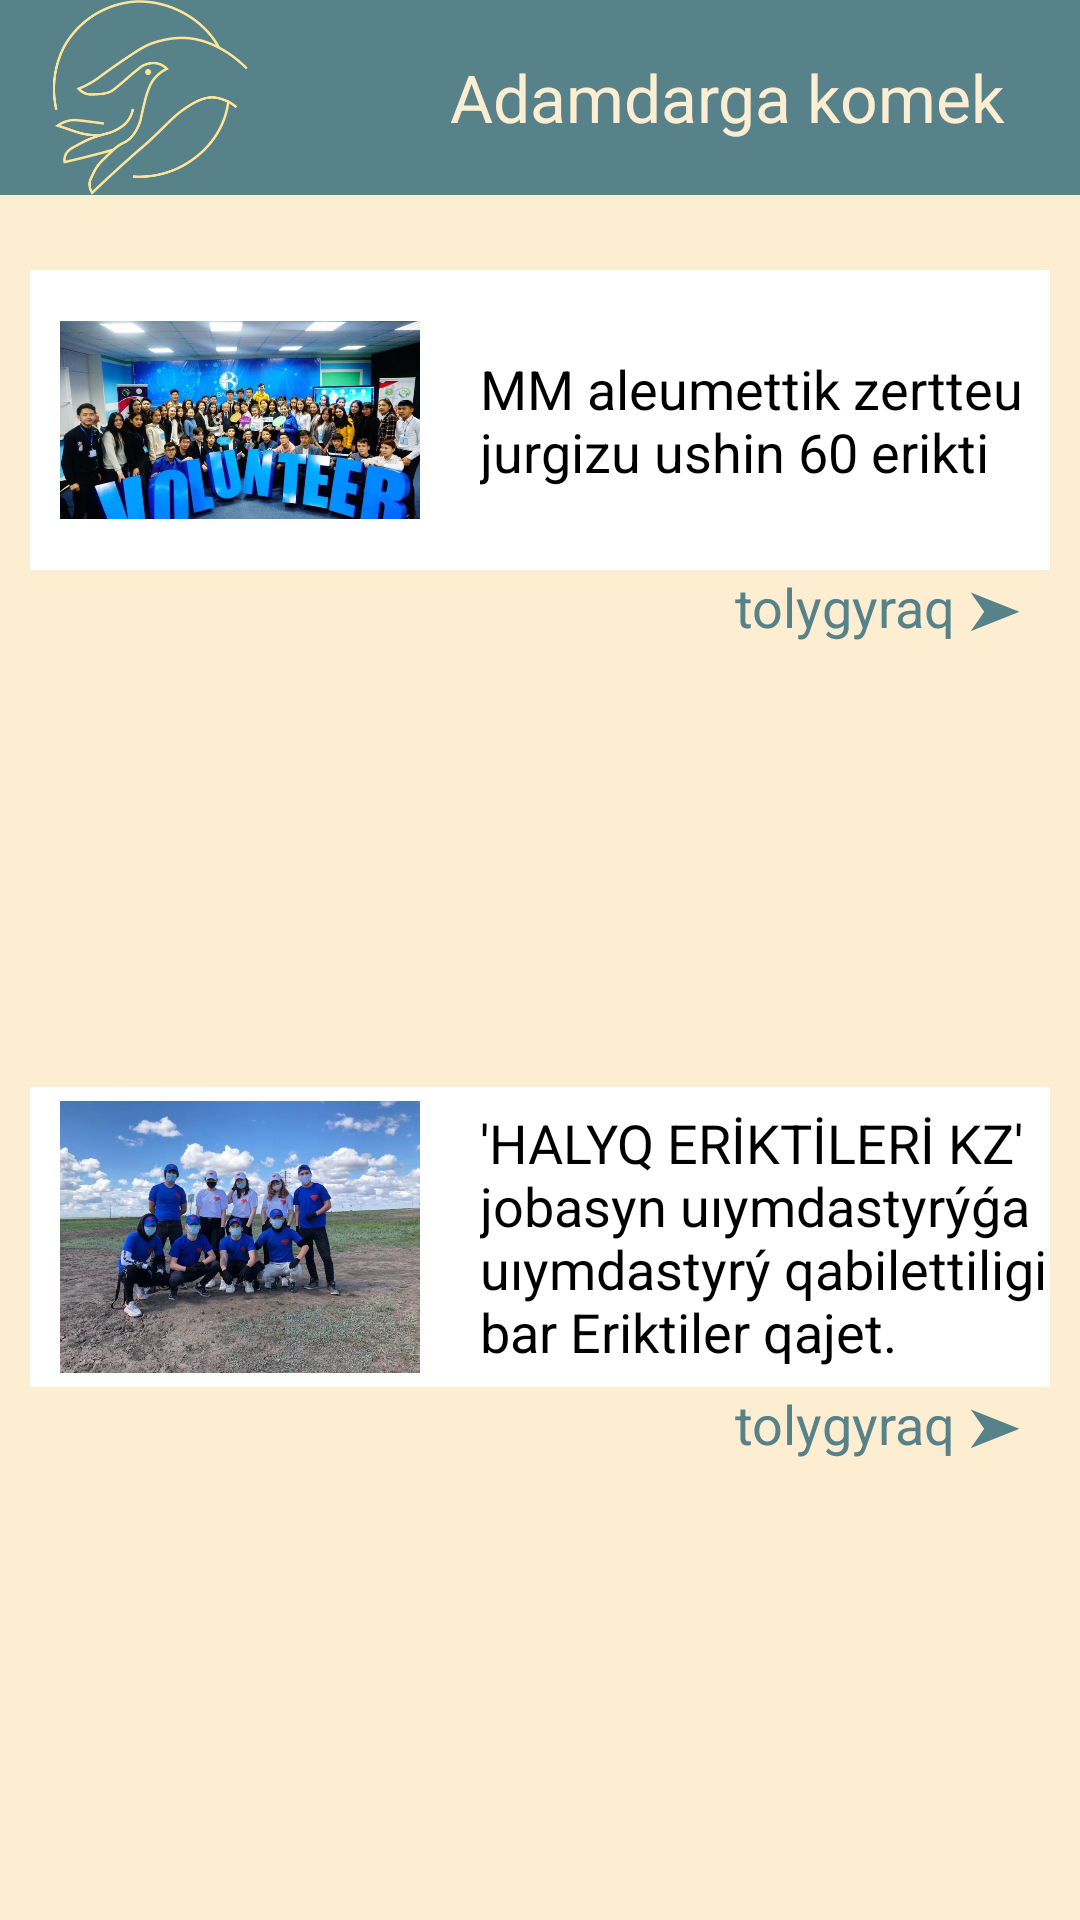

Named icons in this screenshot (1080w x 1920h) and their centers, point (x, y):
halyqq: point (240, 1237)
